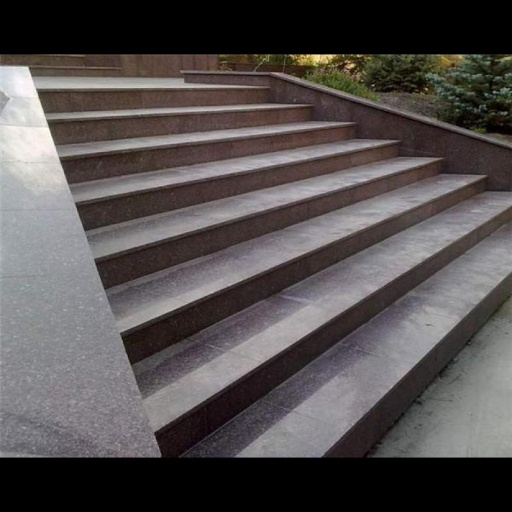Stairs: (36, 77, 512, 456)
